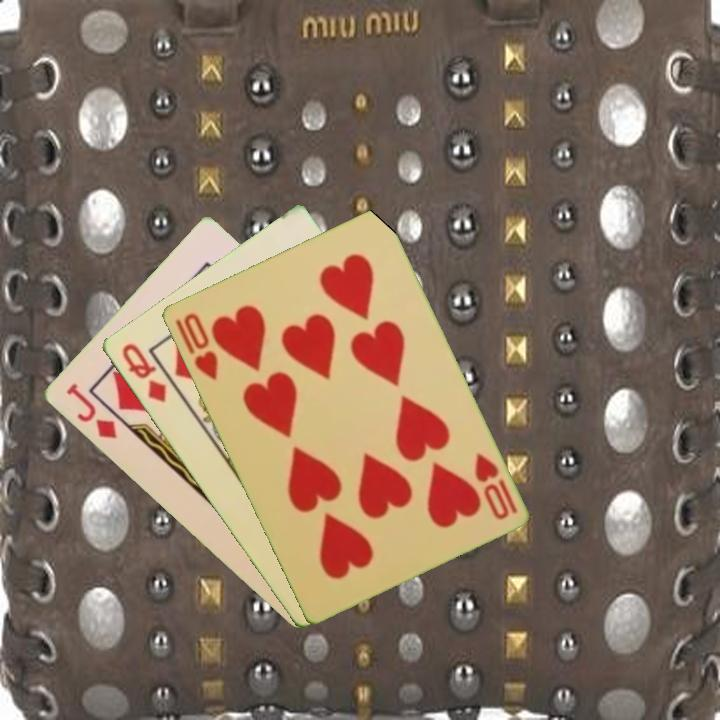10h: (470, 448, 520, 523), (171, 309, 221, 383)
Jd: (61, 379, 119, 442)
Qd: (117, 339, 169, 406)
